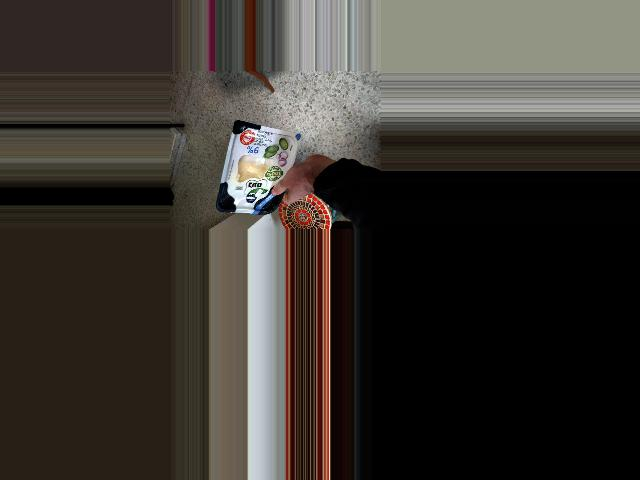cheese: (223, 119, 292, 220)
